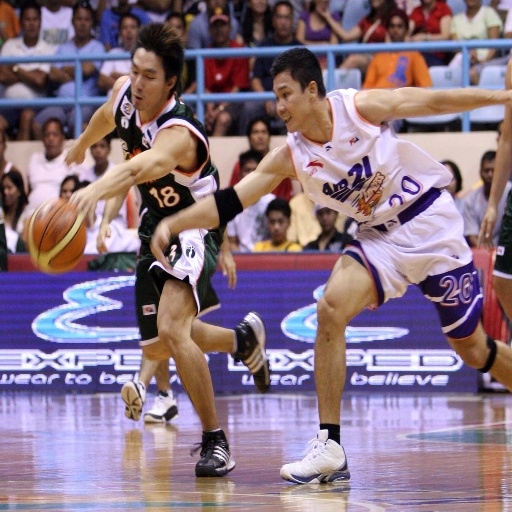hand: (149, 218, 174, 270), (65, 185, 95, 225), (475, 204, 495, 253), (216, 249, 237, 292), (62, 139, 86, 166), (94, 221, 110, 257), (316, 1, 330, 20), (206, 108, 215, 131), (469, 49, 479, 63), (408, 33, 424, 41)
